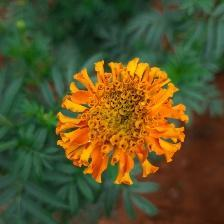marigold: (55, 58, 190, 189)
